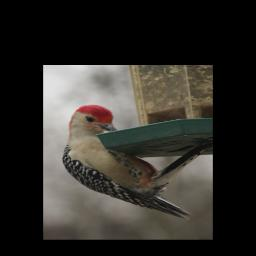Woodpecker: (63, 104, 194, 224)
